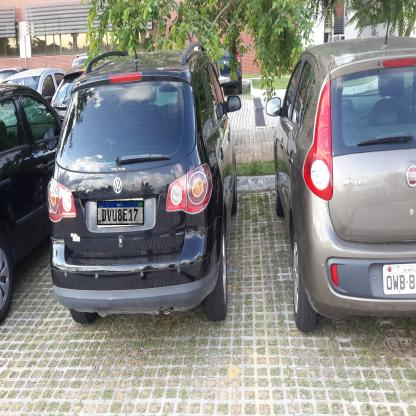PlacaM: (97, 200, 144, 225)
